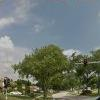Tree: (16, 29, 76, 88)
